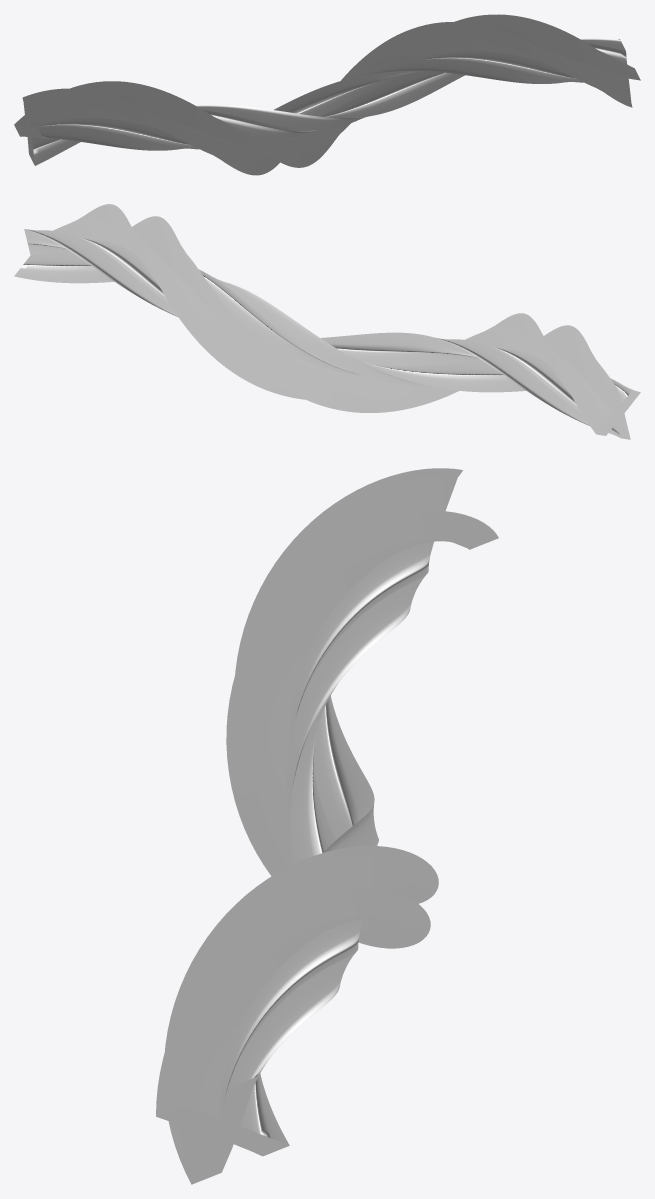
Rendered from Wave.obj.
The picture shows the model from 3 angles, top to bottom: view 1: azimuth 30°, elevation 25°; view 2: azimuth 150°, elevation 25°; view 3: azimuth 270°, elevation 25°; orthographic projection. The views are drawn at different scales.
Bounding box in the file's own units: 3298 × 656 × 890.
3 materials, 2 textured.
